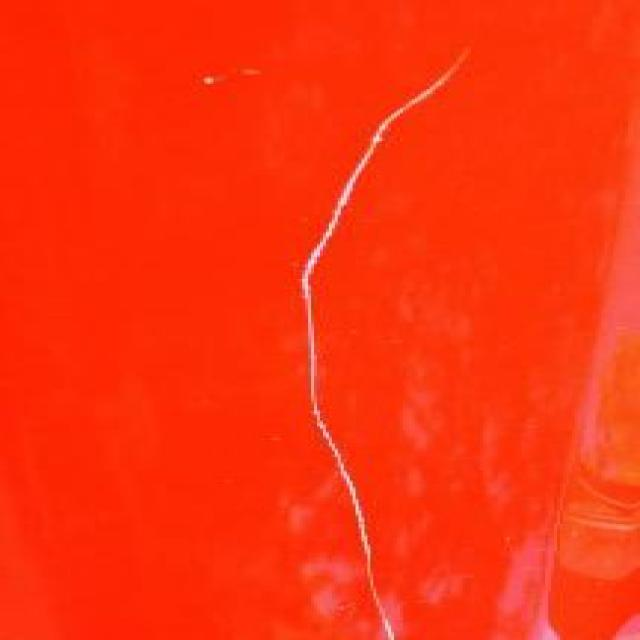scratch: (273, 27, 483, 640)
